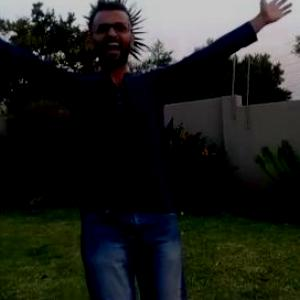takeoff: (1, 0, 281, 299)
